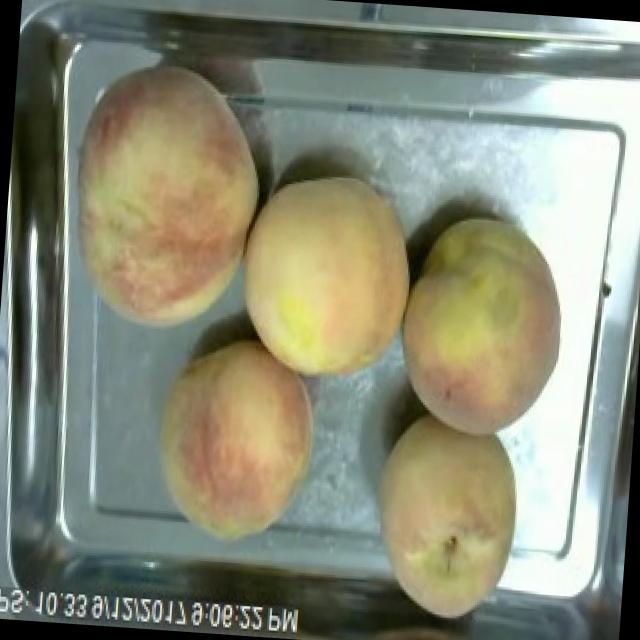Fruit: (43, 48, 280, 346), (224, 160, 426, 396), (392, 202, 582, 449), (140, 326, 329, 556), (357, 408, 536, 638)
